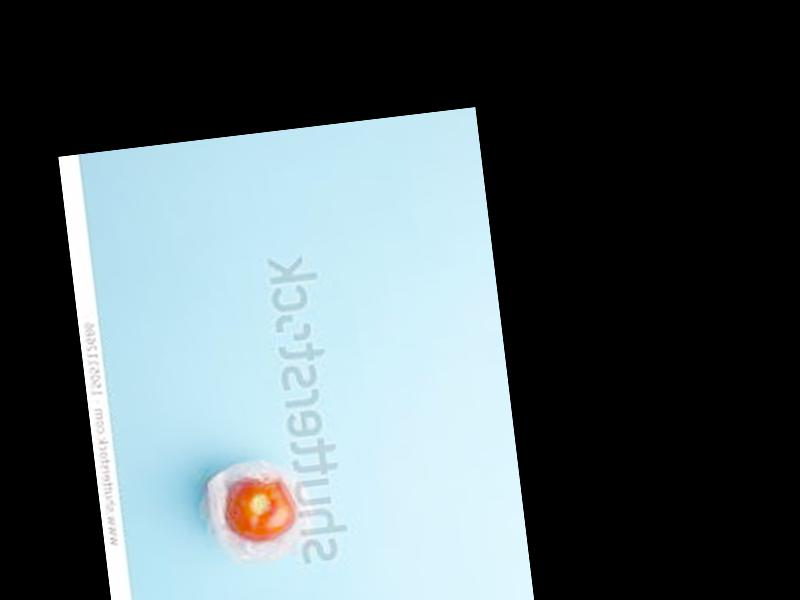Tomato: (222, 471, 298, 544)
